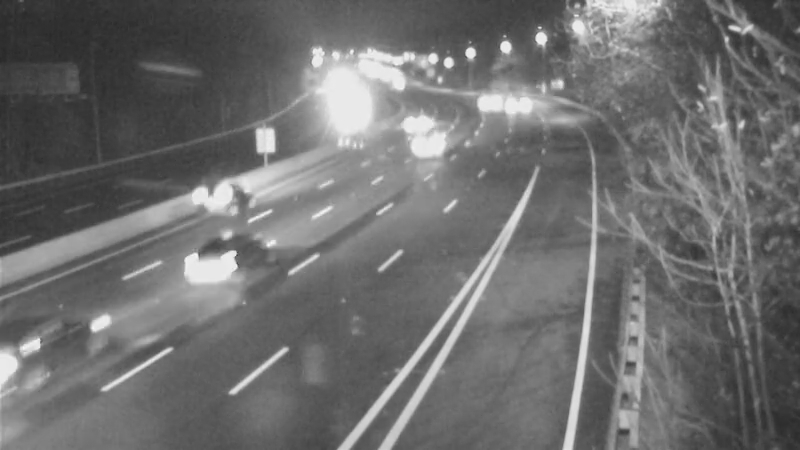vehicle: (1, 294, 100, 404), (187, 163, 267, 243), (177, 225, 257, 305), (457, 80, 507, 130), (494, 82, 544, 132), (394, 94, 444, 144), (406, 117, 456, 167)
